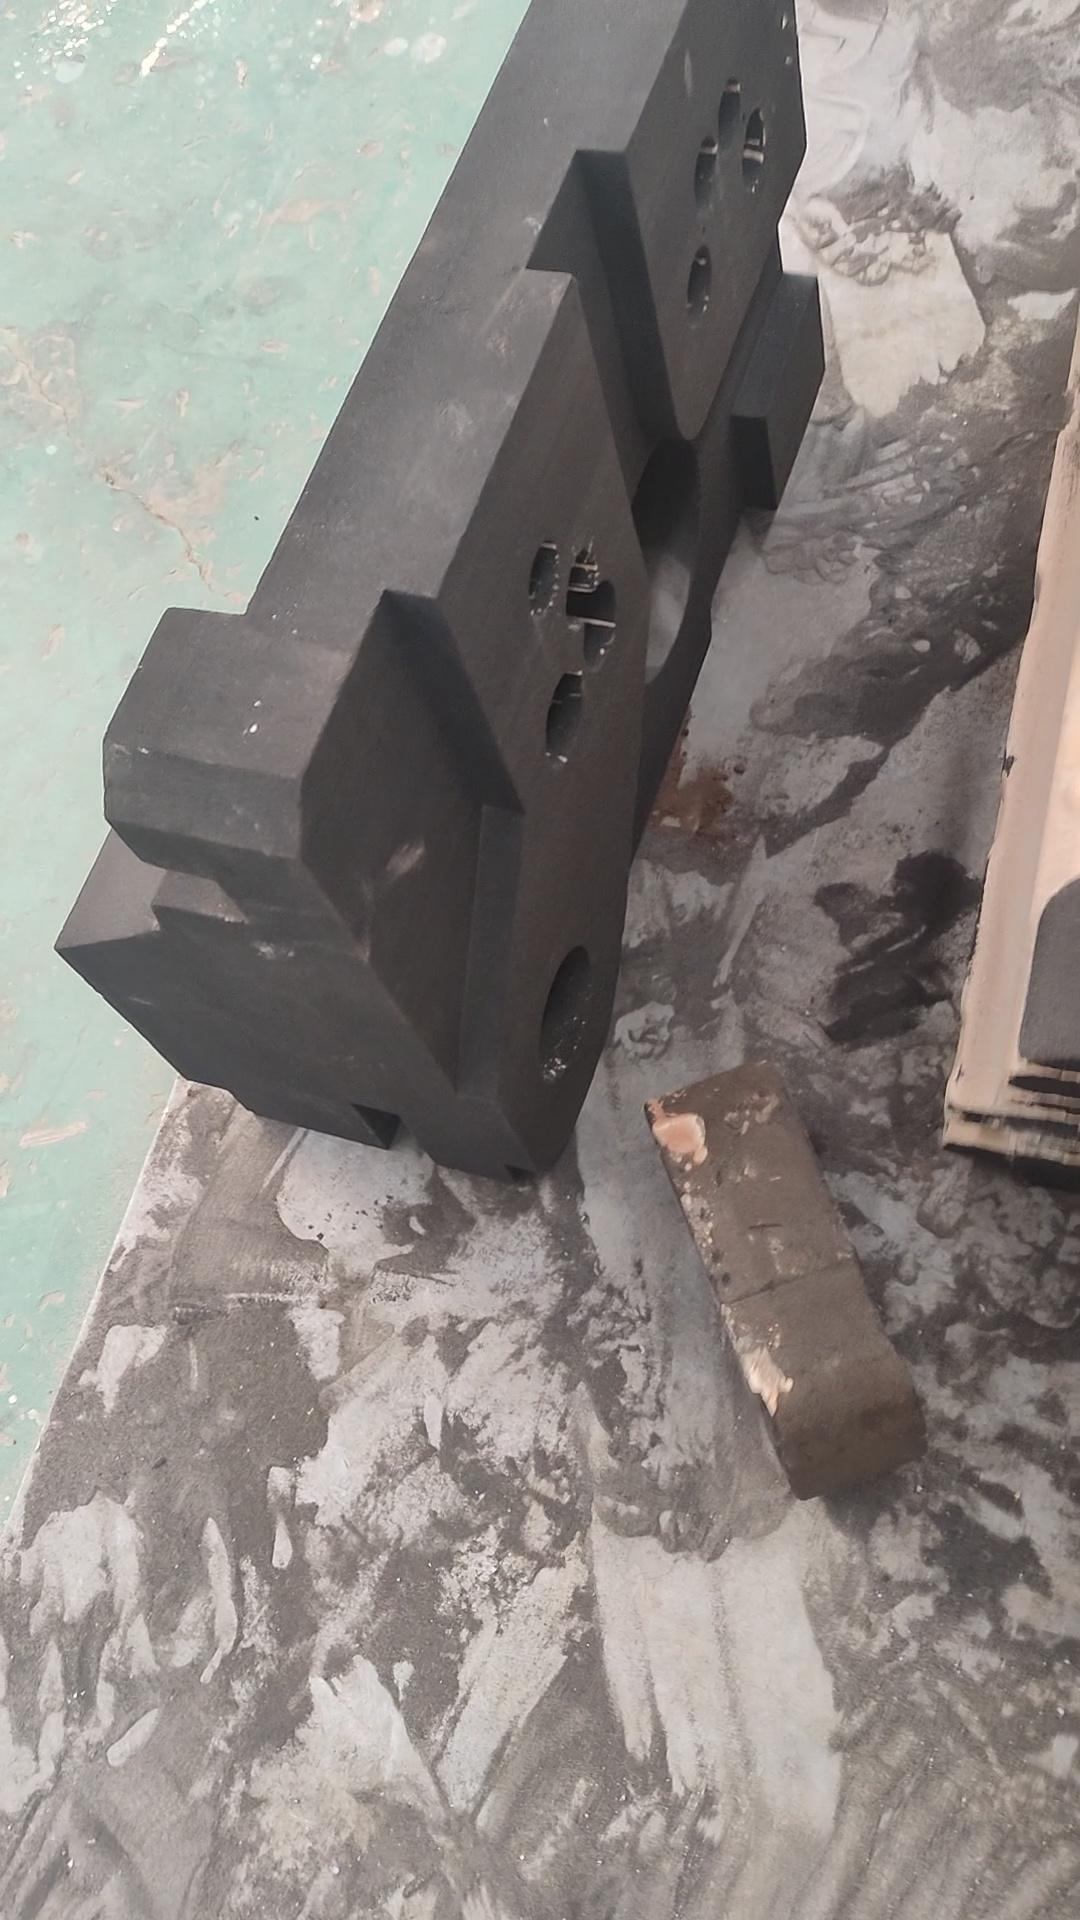pouring hole: (537, 944, 593, 1080)
